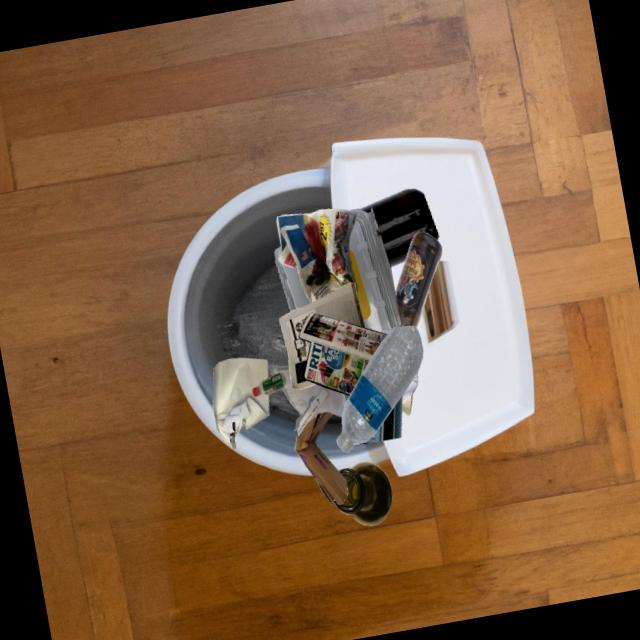cardboard: (295, 411, 348, 505)
glass: (359, 188, 439, 267), (395, 231, 442, 327), (333, 461, 392, 525), (360, 395, 402, 443)
paper: (278, 282, 365, 389), (276, 208, 358, 302), (298, 312, 387, 395), (268, 364, 348, 435), (213, 357, 269, 449), (401, 370, 417, 415)
plastic: (336, 324, 422, 452), (348, 206, 401, 334), (252, 372, 286, 397)
